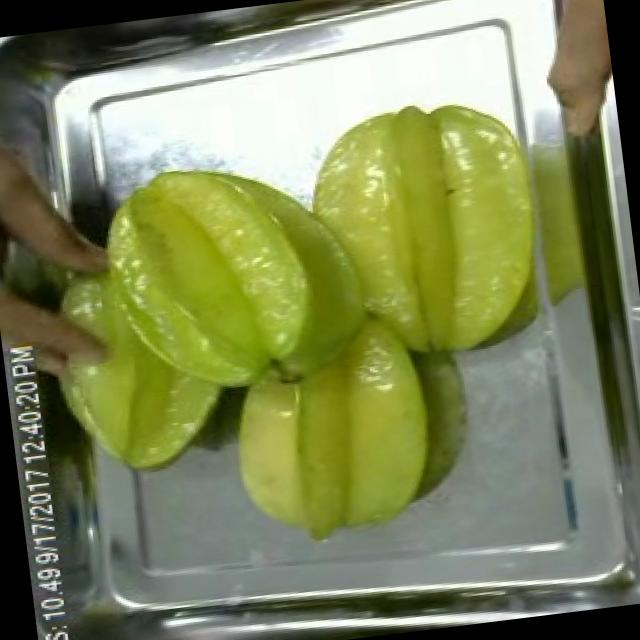fruit: (49, 127, 398, 424), (279, 76, 564, 384), (210, 311, 453, 558)
